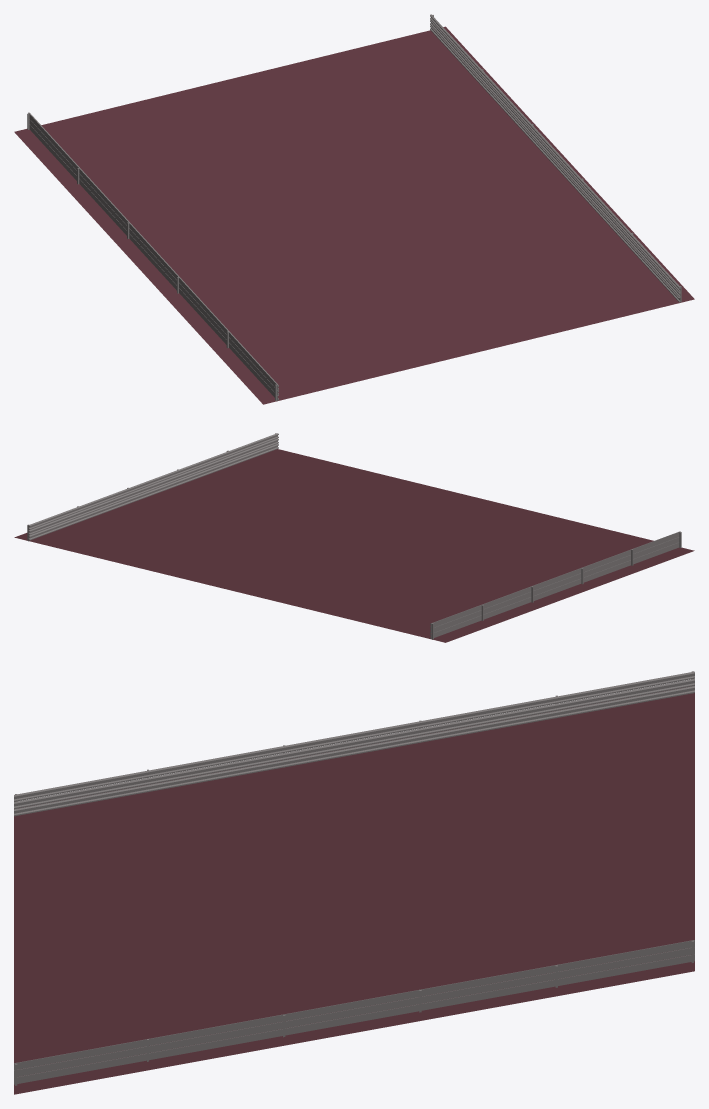
Rendered from tiles-nb-tile-race-track-hill-nb.glb.
The picture shows the model from 3 angles, top to bottom: view 1: azimuth 30°, elevation 25°; view 2: azimuth 150°, elevation 25°; view 3: azimuth 270°, elevation 25°; orthographic projection. The views are drawn at different scales.
Parts seen in each view (by area): view 1: tile-race-track-hill-nb; view 2: tile-race-track-hill-nb; view 3: tile-race-track-hill-nb.
Boxes of the visible parts, x1,y1,x2,y2 form: tile-race-track-hill-nb: (14,14,694,404); tile-race-track-hill-nb: (14,433,694,642); tile-race-track-hill-nb: (14,671,694,1094).
Size of the model in its own units: 30 by 7.05 by 30.
